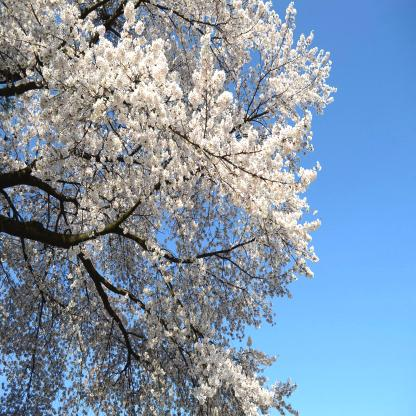Someiyoshino: (2, 2, 357, 415)
